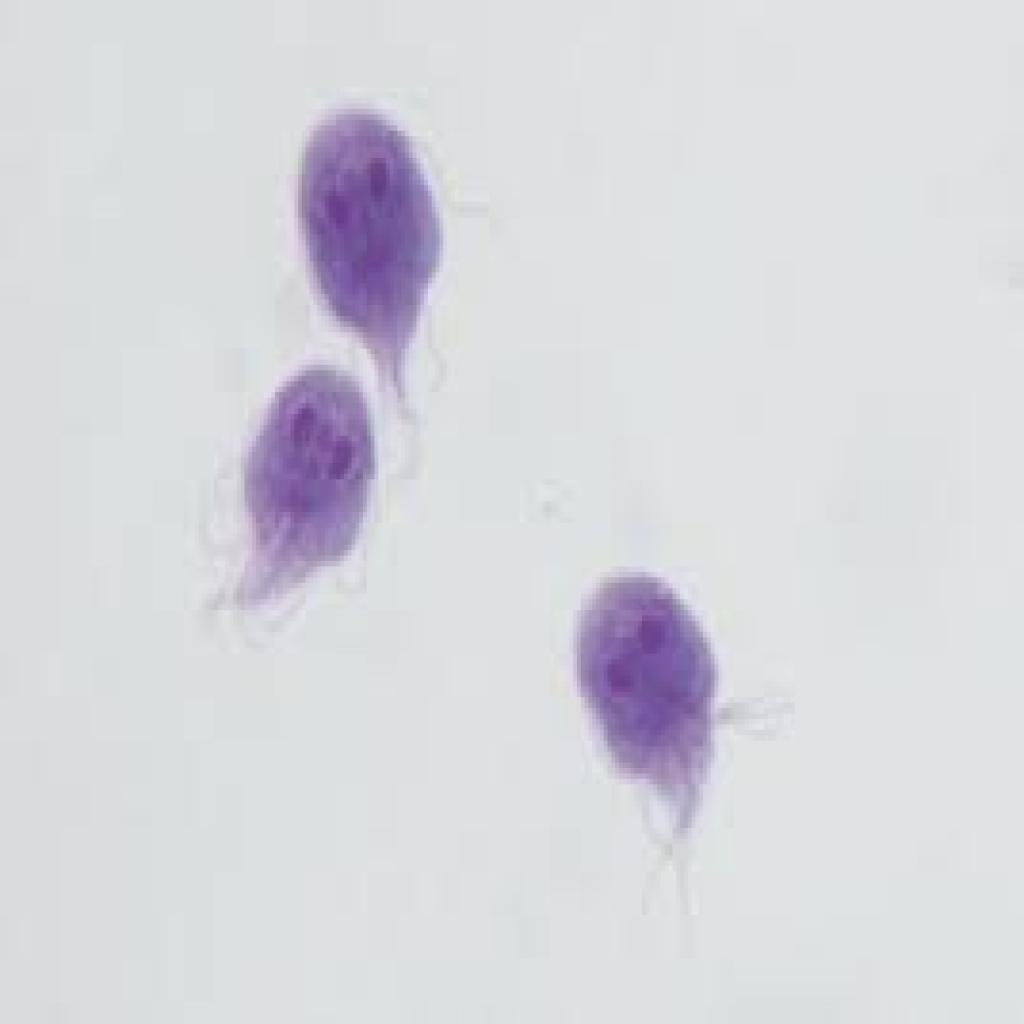Giardia: (562, 561, 741, 872), (218, 359, 378, 621), (294, 109, 451, 376)
